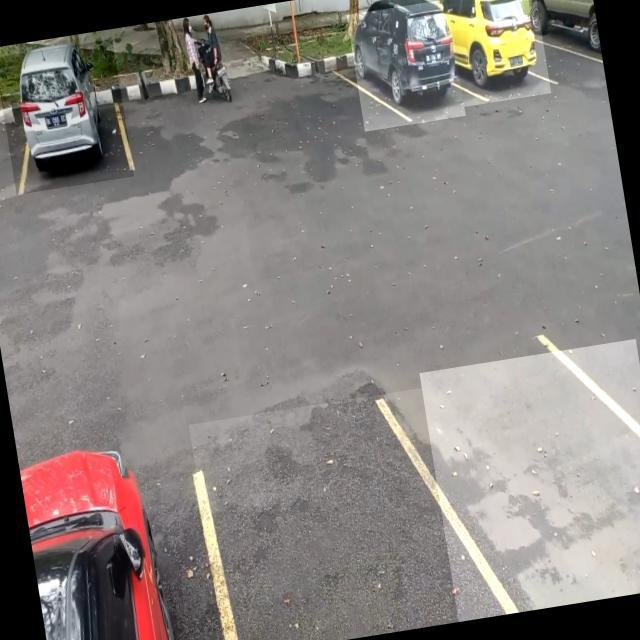empty: (189, 387, 464, 640), (419, 339, 640, 622)
occupied: (0, 39, 134, 195), (347, 0, 466, 132), (446, 0, 551, 106)
